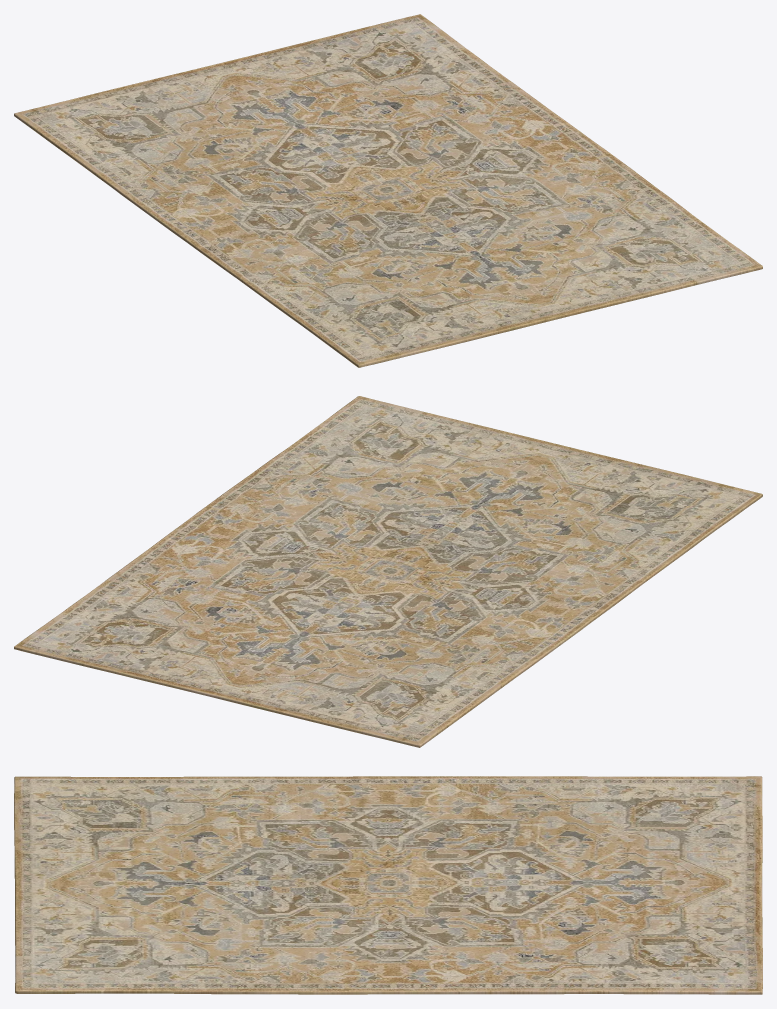
The picture shows the model from 3 angles, top to bottom: view 1: azimuth 30°, elevation 25°; view 2: azimuth 150°, elevation 25°; view 3: azimuth 270°, elevation 25°; orthographic projection. The views are drawn at different scales.
Parts seen in each view (by area): view 1: 000; view 2: 000; view 3: 000.
Part boxes in pixels (box(x1,y1,x2,y2)): 000: box(14, 14, 762, 367); 000: box(14, 396, 762, 747); 000: box(14, 776, 762, 994).
Size of the model in its own units: 1.33 by 0.00952 by 1.95.
2 materials, 2 textured.
